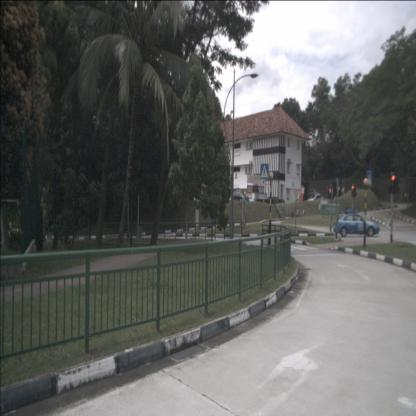vehicle-car: (334, 214, 380, 236), (233, 190, 249, 202), (307, 194, 325, 204), (308, 188, 320, 198)
